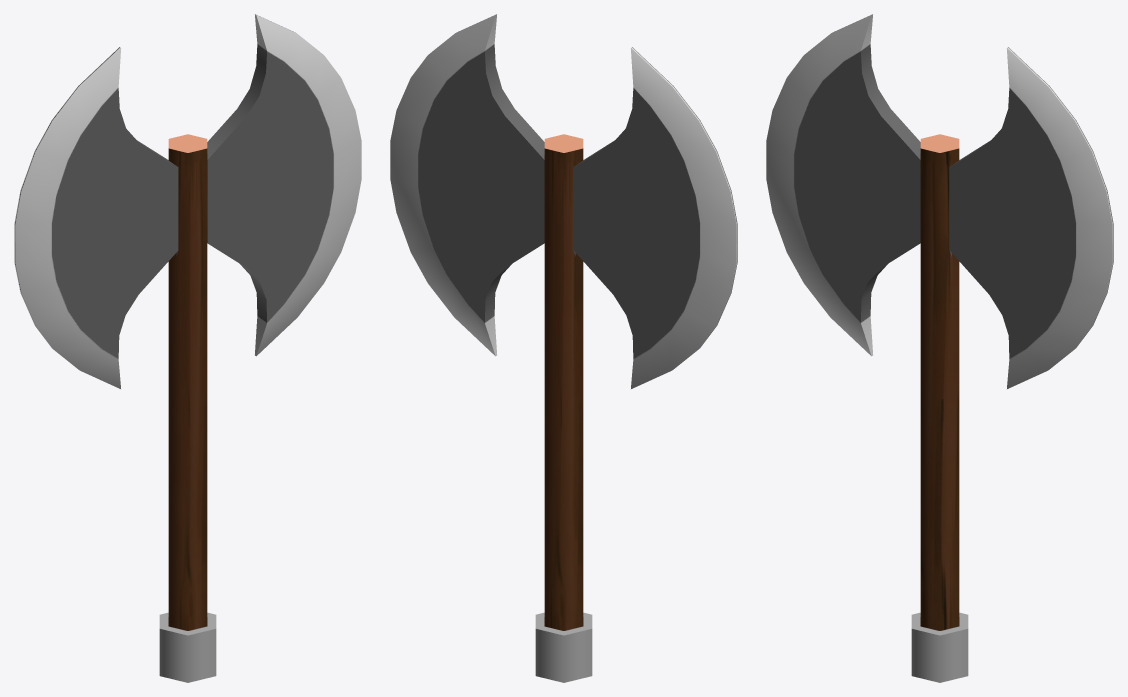
The model's file is OBS0110236.fbx.
3 views of the same model, side by side, from view 1: azimuth 30°, elevation 25°; view 2: azimuth 150°, elevation 25°; view 3: azimuth 330°, elevation 25° (orthographic).
Parts seen in each view (by area): view 1: smOBS0110236; view 2: smOBS0110236; view 3: smOBS0110236.
Part boxes in pixels (x1,y1,x2,y2): smOBS0110236: [14, 14, 361, 682]; smOBS0110236: [390, 14, 737, 682]; smOBS0110236: [766, 14, 1113, 682].
Size of the model in its own units: 265 by 468 by 37.8.
1 material, 1 textured.
